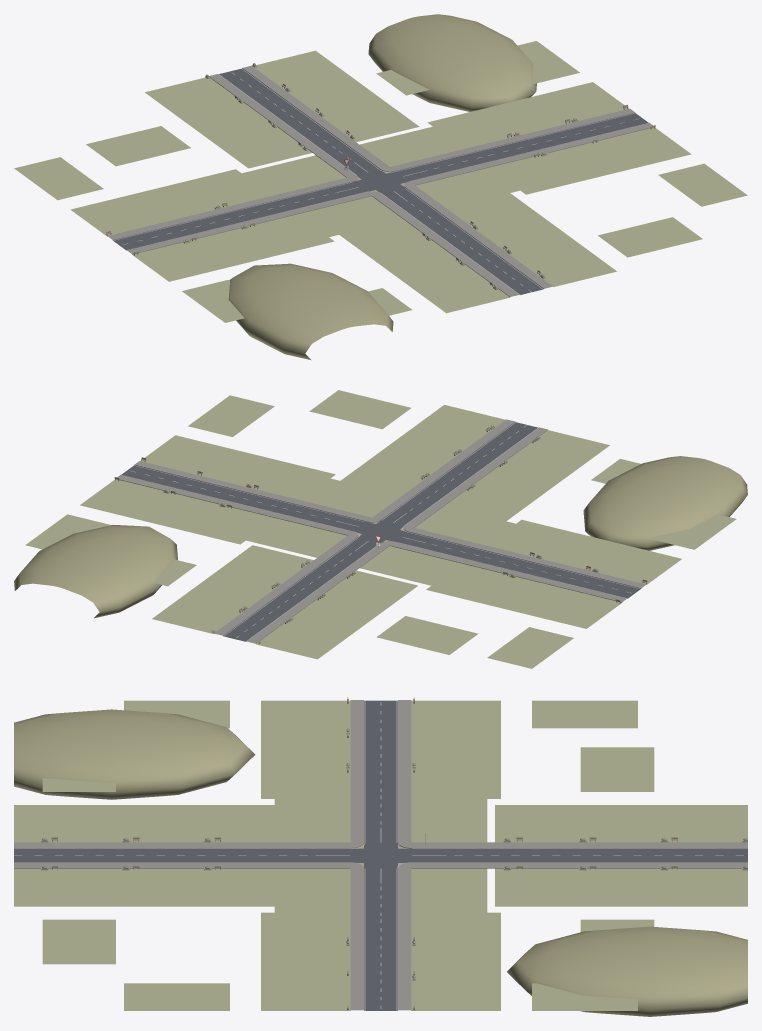
3 views of the same model, one above another, from view 1: azimuth 30°, elevation 25°; view 2: azimuth 150°, elevation 25°; view 3: azimuth 270°, elevation 25° (orthographic). The views are drawn at different scales.
Parts seen in each view (by area): view 1: static; view 2: static; view 3: static.
Part boxes in pixels (bbox=[...]): static: bbox=[14, 14, 747, 360]; static: bbox=[14, 390, 747, 668]; static: bbox=[14, 697, 747, 1016].
Size of what is drawn, in the model's own units: 180 by 14.08 by 180.
Materials: 5 (4 with a texture image).
